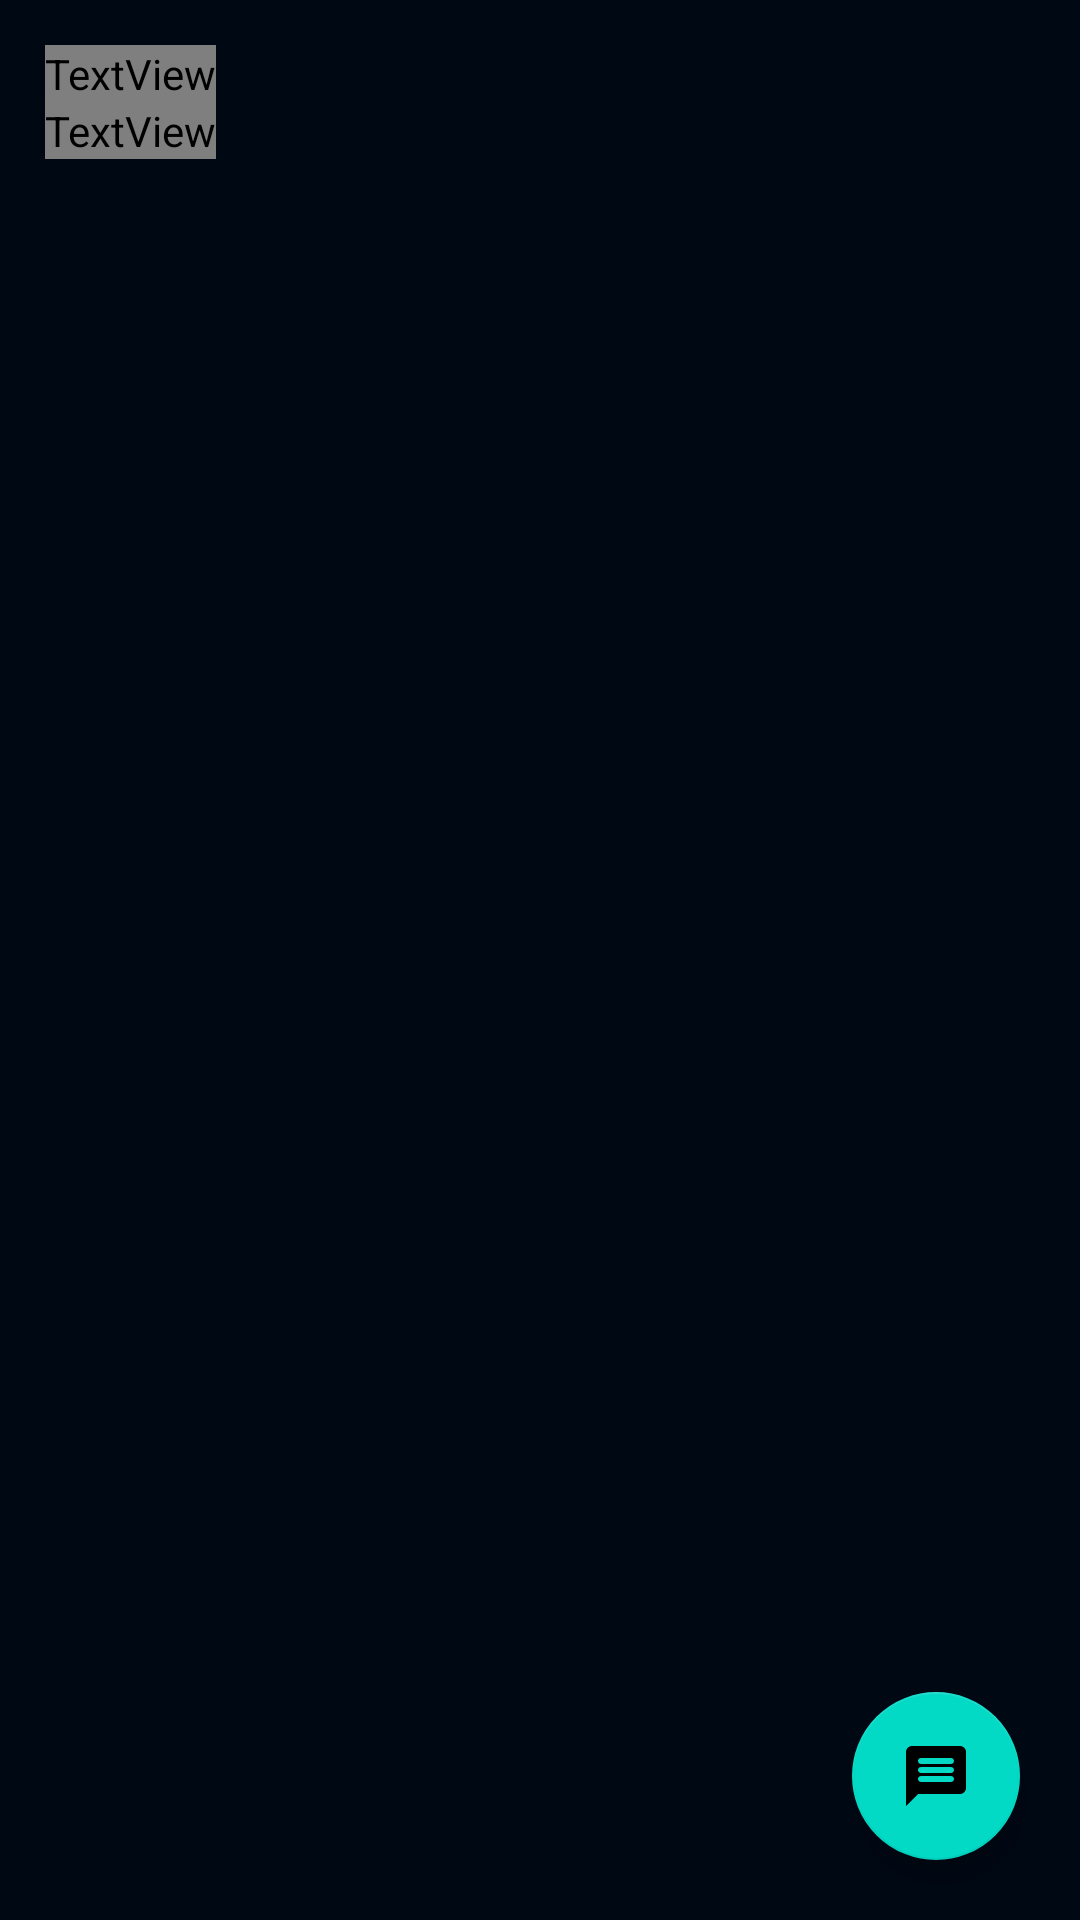

Icons on this 1080w x 1920h Android screen, each with the point to tap as point (x, y):
message: point (936, 1776)
